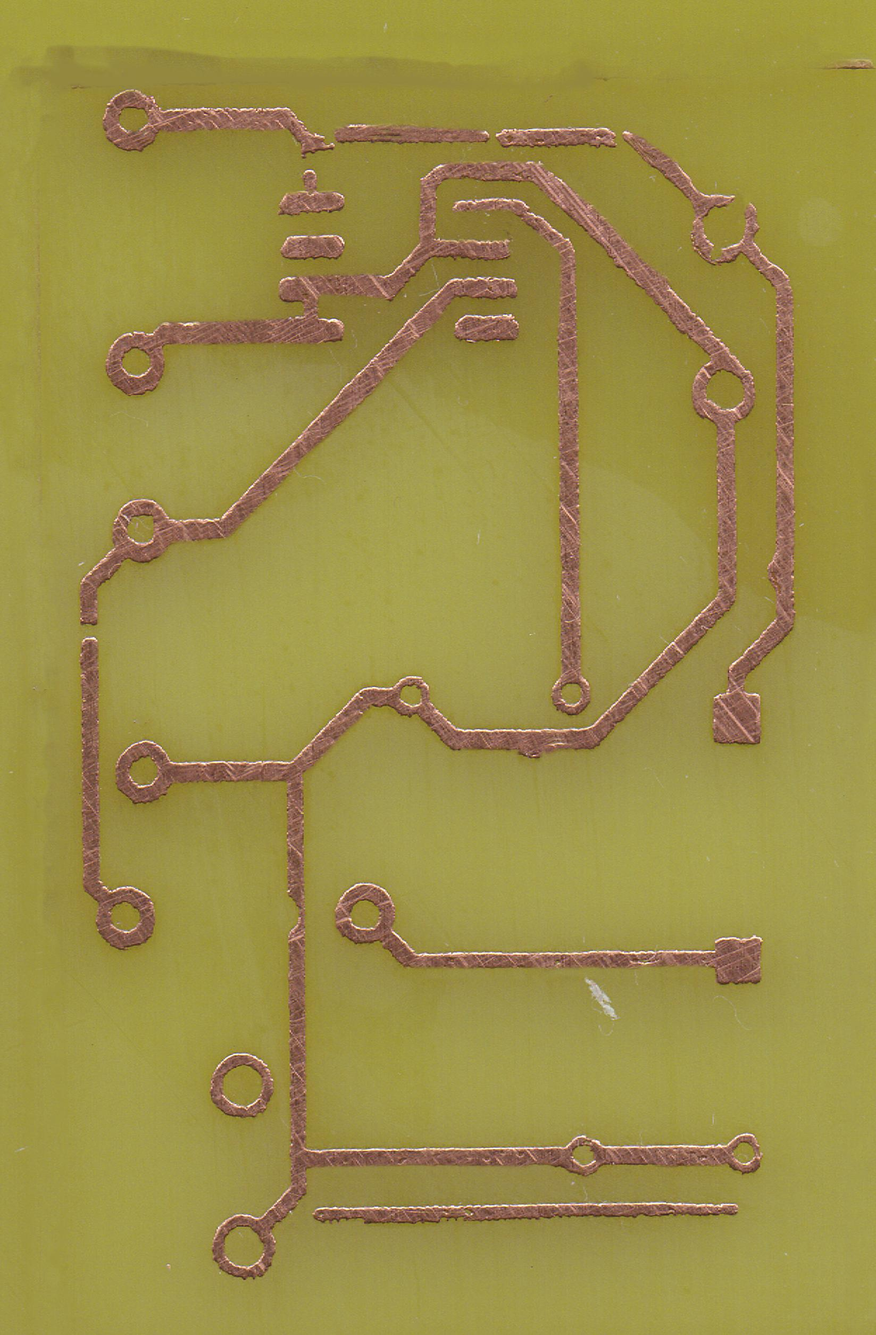missing_hole: (682, 183, 762, 270)
mouse_bite: (280, 882, 311, 951)
open_circuit: (307, 118, 348, 160), (74, 605, 105, 651), (601, 123, 638, 154), (477, 121, 507, 150)
short: (293, 287, 332, 341)
spur: (760, 539, 800, 596), (512, 720, 552, 770), (294, 165, 324, 204)
spurious_copper: (312, 1193, 741, 1229)
